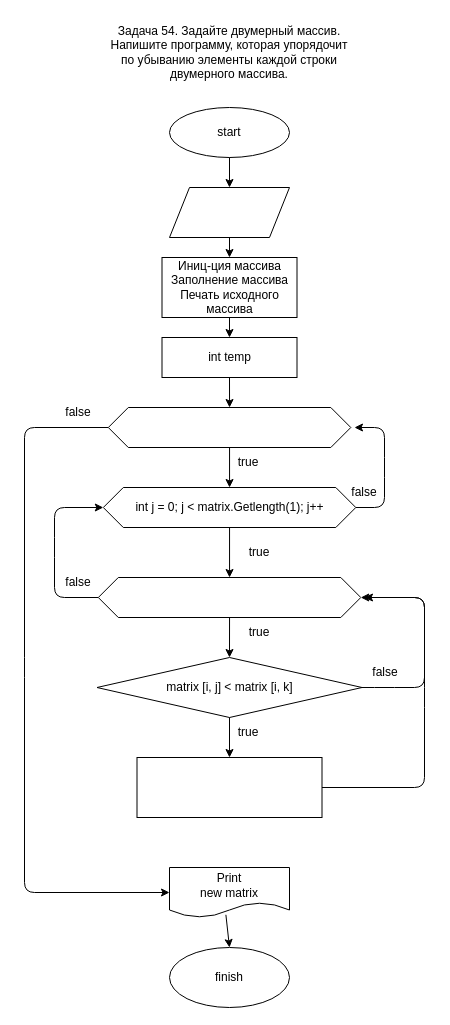
The diagram is 450 pixels wide and 1025 high, and some of its shapes have lost their labels. The shapes that lost their labels are listed below. From the top down, each one's box as (x1, y1, x2, y2) in pixels, then its label:
(168, 186, 290, 238): matrix [,]
(107, 406, 351, 448): int i = 0; i < matrix.Getlength(0); i++
(97, 576, 361, 618): int k = j + 1; k < matrix.Getlength(0); k++
(136, 756, 322, 818): temp = matrix [i, j] matrix [i, j] = matrix [i, k] matrix [i, k] = temp
